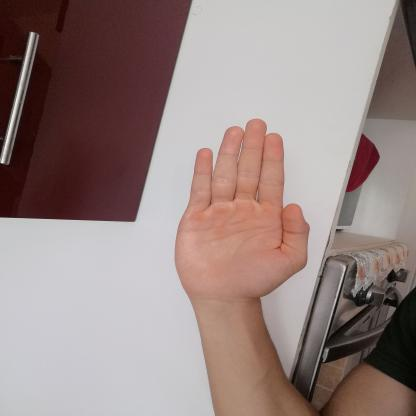SEEN: (161, 110, 320, 307)
